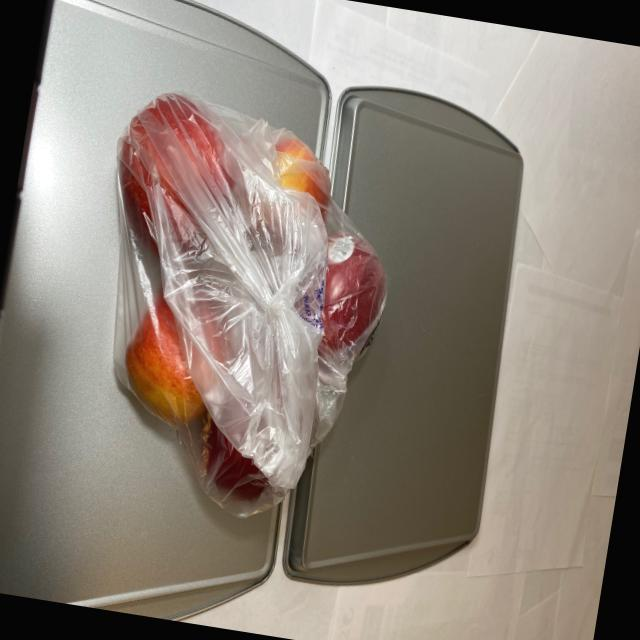apple: (63, 86, 416, 538)
